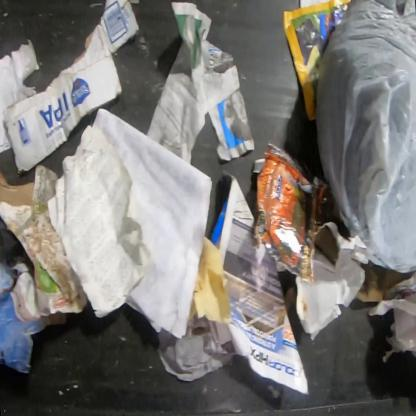cardboard: (4, 0, 141, 171), (0, 172, 88, 322), (353, 260, 415, 303)
soft_plastic: (316, 0, 415, 275), (252, 140, 341, 284)
